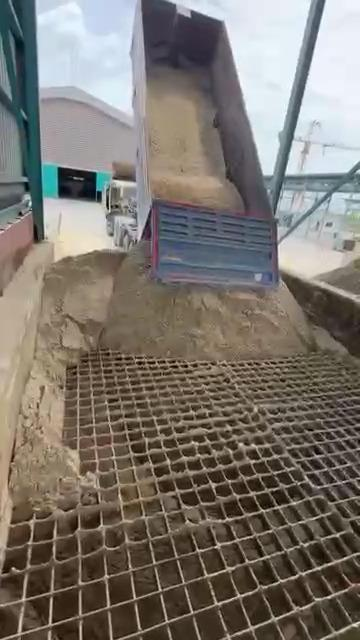sand: (11, 243, 312, 510), (147, 64, 242, 209), (321, 257, 360, 294), (314, 326, 348, 355)
